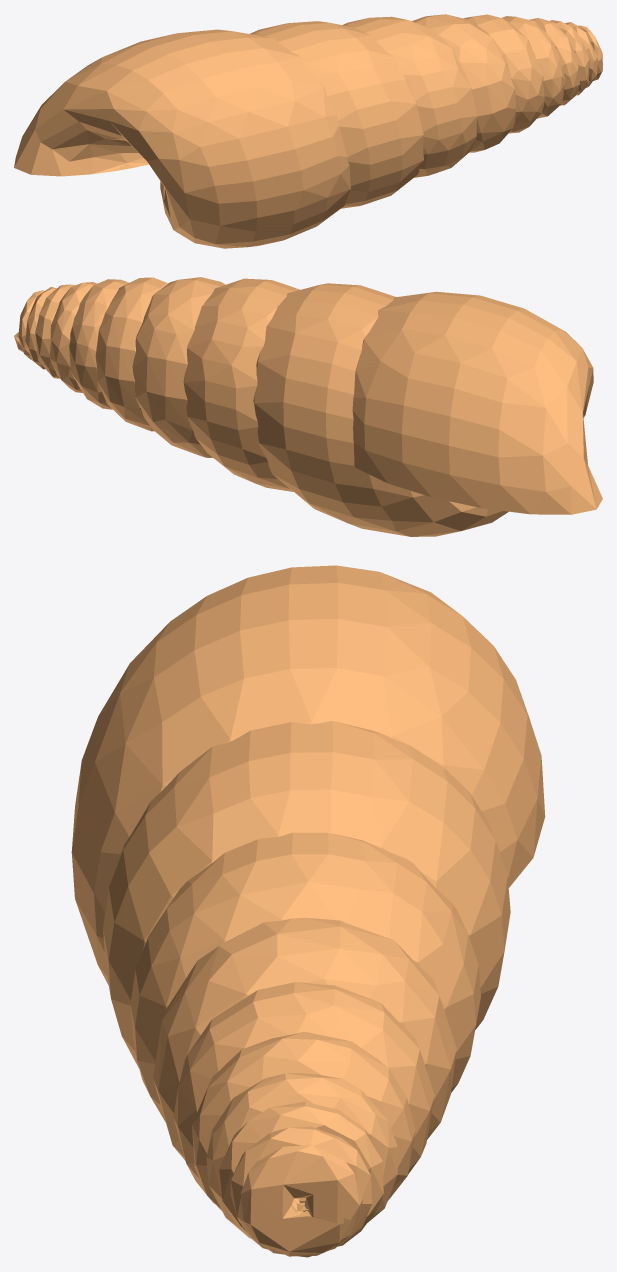
The model's file is shell1.fbx.
3 views of the same model, one above another, from view 1: azimuth 30°, elevation 25°; view 2: azimuth 150°, elevation 25°; view 3: azimuth 270°, elevation 25° (orthographic). The views are drawn at different scales.
Parts seen in each view (by area): view 1: Shell; view 2: Shell; view 3: Shell.
Part boxes in pixels (x1,y1,x2,y2): Shell: (14,14,602,248); Shell: (14,277,602,536); Shell: (71,565,545,1257).
Bounding box in the file's own units: 176 × 63.47 × 66.22.
